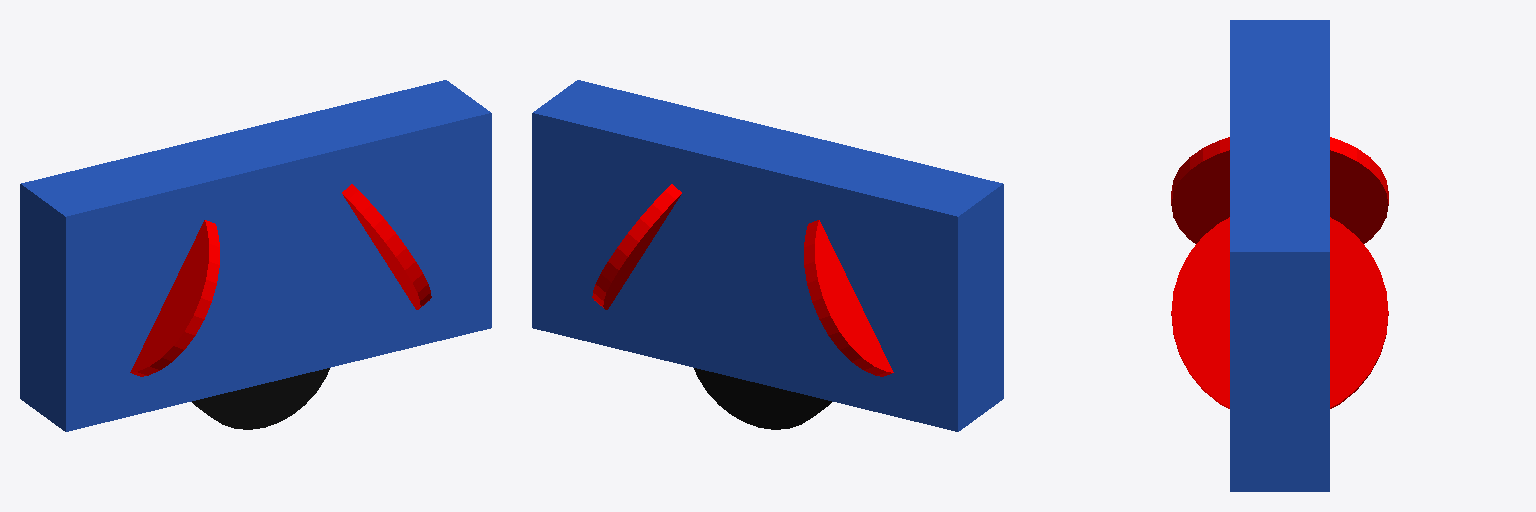
robot.urdf — car:
<?xml version="1.0"?>
<robot name="car">
  <!-- <link name="world"/> -->

  <material name="blue">
    <color rgba="0.2 0.4 0.8 1.0"/> 
  </material>
  
  <material name="black">
    <color rgba="0.1 0.1 0.1 1.0"/>
  </material>

  <material name="red">
    <color rgba="1.0 0.0 0.0 1.0"/>
  </material>

  <link name="base_link">
    <inertial>
      <mass value="0.3"/> 
      <inertia 
        ixx="0.00154"  
        iyy="0.00364"  
        izz="0.00385" 
      />
    </inertial>

    <visual>
      <origin xyz="0 0 0" rpy="0 0 0"/>
      <geometry>
        <box size="0.20146 0.037 0.0974"/> 
      </geometry>
      <material name="blue"/>
    </visual>

    <collision>
      <origin xyz="0 0 0" rpy="0 0 0"/>
      <geometry>
        <box size="0.20146 0.037 0.0974"/>
      </geometry>
    </collision>
  </link>

  <link name="wheel">
    <inertial>
      <mass value="0.02"/>
      <inertia
        ixx="0.000006125" 
        iyy="0.000006125"
        izz="0.00001225"  
      />
    </inertial>
    
    <visual>
      <origin xyz="0 0 0" rpy="1.5708 0 0"/> 
      <geometry>
        <cylinder radius="0.035" length="0.0135"/>
      </geometry>
      <material name="black"/>
    </visual>
    
    <collision>
      <origin xyz="0 0 0" rpy="1.5708 0 0"/>
      <geometry>
        <cylinder radius="0.035" length="0.0135"/>
      </geometry>
    </collision>
  </link>

  <link name="flywheel1">
    <inertial>
        <mass value="0.167"/>
        <inertia
          ixx="0.0001336"
          iyy="0.0001336"
          izz="0.0001336"
        />
    </inertial>
    <visual>
        <origin xyz="0 0 0" rpy="1.0472 0 1.5708"/> <!-- 30°绕y轴 + 90°绕z轴 -->
        <geometry>
            <cylinder radius="0.04" length="0.006"/>
        </geometry>
        <material name="red"/>
    </visual>

    <collision>
        <origin xyz="0 0 0" rpy="1.0472 0 1.5708"/>
        <geometry>
            <cylinder radius="0.04" length="0.006"/>
        </geometry>
    </collision>
  </link>

  <link name="flywheel2">
    <inertial>
        <mass value="0.167"/>
        <inertia
          ixx="0.0001336"
          iyy="0.0001336"
          izz="0.0001336"
        />
    </inertial>
    <visual>
        <origin xyz="0 0 0" rpy="-1.0472 0 1.5708"/> <!-- 30°绕y轴 + 90°绕z轴 -->
        <geometry>
            <cylinder radius="0.04" length="0.006"/>
        </geometry>
        <material name="red"/>
    </visual>

    <collision>
        <origin xyz="0 0 0" rpy="-1.0472 0 1.5708"/>
        <geometry>
            <cylinder radius="0.04" length="0.006"/>
        </geometry>
    </collision>
  </link>

  <!-- <joint name="base_joint" type="fixed">
    <parent link="world"/>
    <child link="base_link"/>
    <origin xyz="0 0 0.04" rpy="0 0 0"/>
  </joint> -->

  <joint name="wheel_joint" type="continuous">
    <parent link="base_link"/>
    <child link="wheel"/>
    <origin xyz="0 0 -0.04" rpy="0 0 0"/> 
    <axis xyz="0 1 0"/>  
    <dynamics friction="0.001" damping="0.001"/>
  </joint>

  <joint name="flywheel1_joint" type="continuous">
    <parent link="base_link"/>
    <child link="flywheel1"/>
    <origin xyz="0.05 0 0" rpy="0 0 0"/> 
    <axis xyz="0.866 0 0.5"/> <!-- 旋转轴沿z轴 -->
  </joint>

  <joint name="flywheel2_joint" type="continuous">
    <parent link="base_link"/>
    <child link="flywheel2"/>
    <origin xyz="-0.05 0 0" rpy="0 0 0"/> 
    <axis xyz="0.866 0 -0.5"/> <!-- 旋转轴沿z轴 -->
  </joint>
</robot>

--- Render facts (derived) ---
3 views of the same robot in one strip: view 1: azimuth 30°, elevation 25°; view 2: azimuth 150°, elevation 25°; view 3: azimuth 270°, elevation 25° (orthographic).
Robot: car — 4 links, 3 joints (3 continuous); root link base_link; default pose: every joint at zero.
Links seen in each view (by area): view 1: base_link, flywheel2, wheel, flywheel1; view 2: base_link, flywheel2, wheel, flywheel1; view 3: base_link, flywheel1, flywheel2.
Boxes of the visible links, <box> form: base_link: <box>20,80,491,431</box>; flywheel2: <box>130,220,219,376</box>; wheel: <box>192,368,329,429</box>; flywheel1: <box>342,184,431,309</box>; base_link: <box>532,80,1003,431</box>; flywheel2: <box>804,220,893,376</box>; wheel: <box>694,368,831,429</box>; flywheel1: <box>592,184,681,309</box>; base_link: <box>1230,20,1329,491</box>; flywheel1: <box>1171,217,1388,408</box>; flywheel2: <box>1171,137,1388,243</box>.
Size in the robot's own frame: 0.2015 by 0.08 by 0.1237 metres.
Geometry: primitives only (box / cylinder / sphere), no mesh files.
